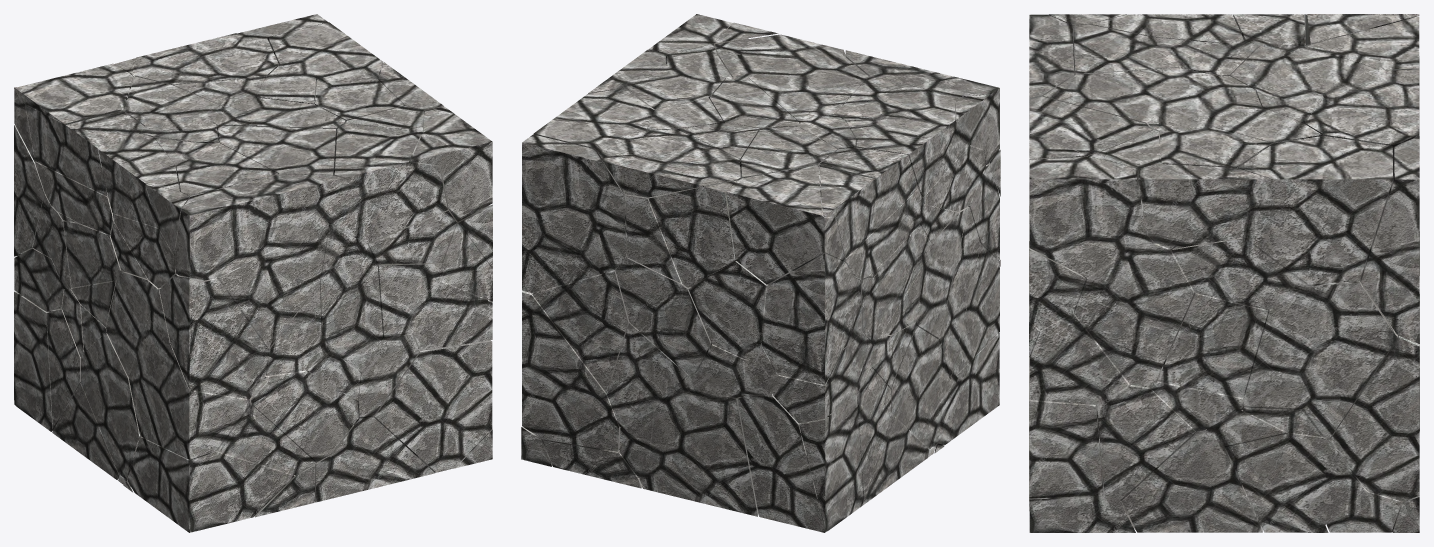
File: cell_fracture_test1.fbx
3 renders of one model, left to right at view 1: azimuth 30°, elevation 25°; view 2: azimuth 150°, elevation 25°; view 3: azimuth 270°, elevation 25°, orthographic. The views are drawn at different scales.
Parts seen in each view (by area): view 1: Cube_cell.127, Cube_cell.077, Cube_cell.061, Cube_cell.057, Cube_cell.114, Cube_cell.074, Cube_cell, Cube_cell.012, Cube_cell.041, Cube_cell.098, Cube_cell.092, Cube_cell.070 (+48 smaller); view 2: Cube_cell.108, Cube_cell.036, Cube_cell.068, Cube_cell.055, Cube_cell.135, Cube_cell.026, Cube_cell.092, Cube_cell.081, Cube_cell.027, Cube_cell.009, Cube_cell.064, Cube_cell.098 (+45 smaller); view 3: Cube_cell.090, Cube_cell.021, Cube_cell.033, Cube_cell.118, Cube_cell.068, Cube_cell.046, Cube_cell.144, Cube_cell.093, Cube_cell.108, Cube_cell.083, Cube_cell.141, Cube_cell.077 (+29 smaller).
Part boxes in pixels (bbox=[...]): Cube_cell.127: bbox=[174, 174, 343, 281]; Cube_cell.077: bbox=[372, 340, 492, 472]; Cube_cell.061: bbox=[328, 123, 447, 242]; Cube_cell.057: bbox=[127, 436, 294, 532]; Cube_cell.114: bbox=[159, 274, 268, 399]; Cube_cell.074: bbox=[318, 224, 383, 371]; Cube_cell: bbox=[216, 222, 329, 348]; Cube_cell.012: bbox=[140, 344, 250, 459]; Cube_cell.041: bbox=[249, 370, 358, 462]; Cube_cell.098: bbox=[25, 104, 144, 196]; Cube_cell.092: bbox=[132, 33, 278, 85]; Cube_cell.070: bbox=[80, 333, 141, 478]; Cube_cell.108: bbox=[522, 134, 626, 292]; Cube_cell.036: bbox=[726, 165, 844, 284]; Cube_cell.068: bbox=[522, 291, 620, 451]; Cube_cell.055: bbox=[761, 253, 854, 384]; Cube_cell.135: bbox=[639, 397, 758, 516]; Cube_cell.026: bbox=[737, 394, 826, 532]; Cube_cell.092: bbox=[596, 129, 740, 197]; Cube_cell.081: bbox=[532, 270, 630, 392]; Cube_cell.027: bbox=[615, 257, 710, 375]; Cube_cell.009: bbox=[648, 180, 737, 287]; Cube_cell.064: bbox=[799, 394, 863, 531]; Cube_cell.098: bbox=[819, 147, 918, 257]; Cube_cell.090: bbox=[1236, 135, 1393, 284]; Cube_cell.021: bbox=[1244, 281, 1394, 409]; Cube_cell.033: bbox=[1029, 156, 1146, 277]; Cube_cell.118: bbox=[1074, 243, 1194, 387]; Cube_cell.068: bbox=[1327, 335, 1419, 501]; Cube_cell.046: bbox=[1225, 433, 1365, 532]; Cube_cell.144: bbox=[1121, 433, 1262, 532]; Cube_cell.093: bbox=[1138, 164, 1271, 249]; Cube_cell.108: bbox=[1360, 136, 1419, 343]; Cube_cell.083: bbox=[1157, 293, 1268, 397]; Cube_cell.141: bbox=[1097, 384, 1195, 501]; Cube_cell.077: bbox=[1029, 356, 1104, 510].
Size of the model in its own units: 200 by 200 by 200.
Materials: 1 (1 with a texture image).
